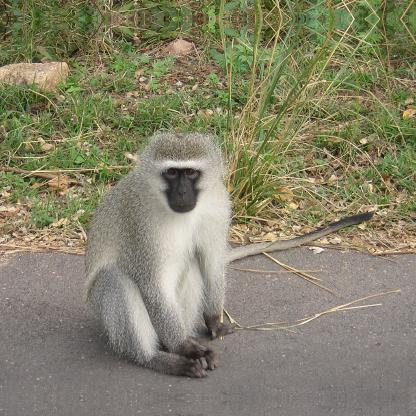Monkey: (84, 130, 374, 374)
